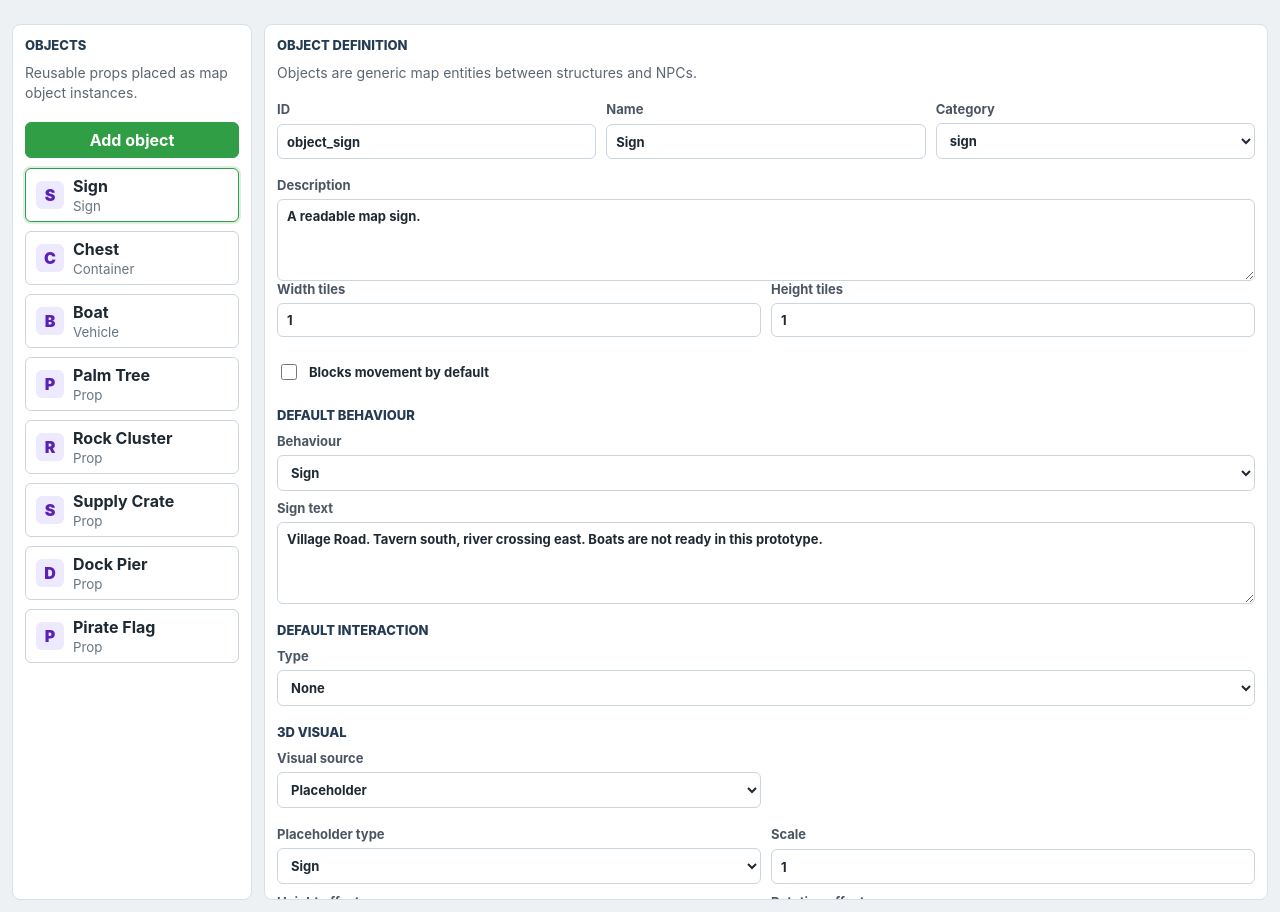
Three visual editor integration › shows the demo object assignment through the Object editor UI
Click the button "C Chest container".
click(132, 258)  # box [25, 231, 239, 285]
(page scrolled)
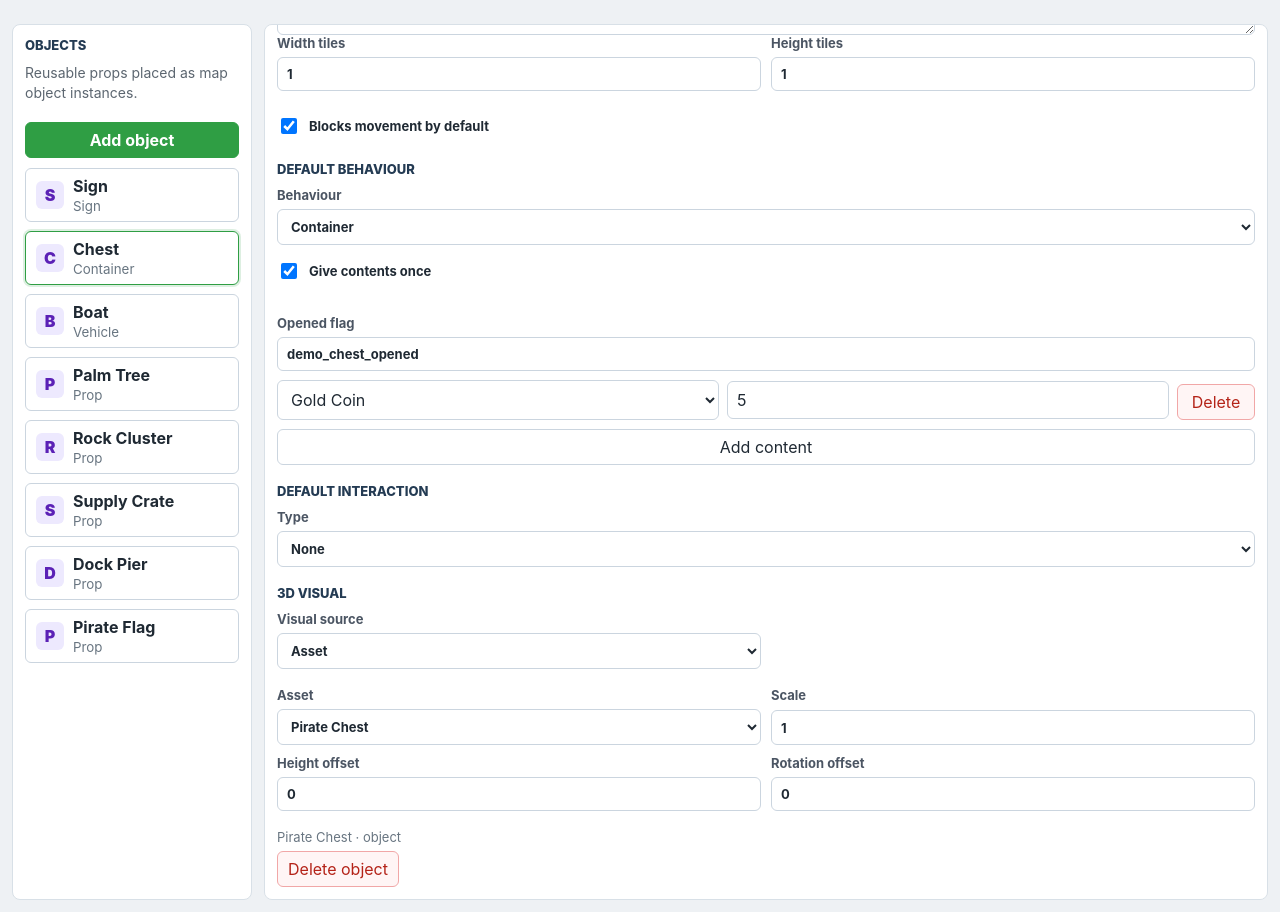
Expected: the dropdown labelled "Visual source" shows "Asset", [277, 633, 761, 669]
Expected: the dropdown labelled "Asset" shows "Pirate Chest", [277, 709, 761, 745]
